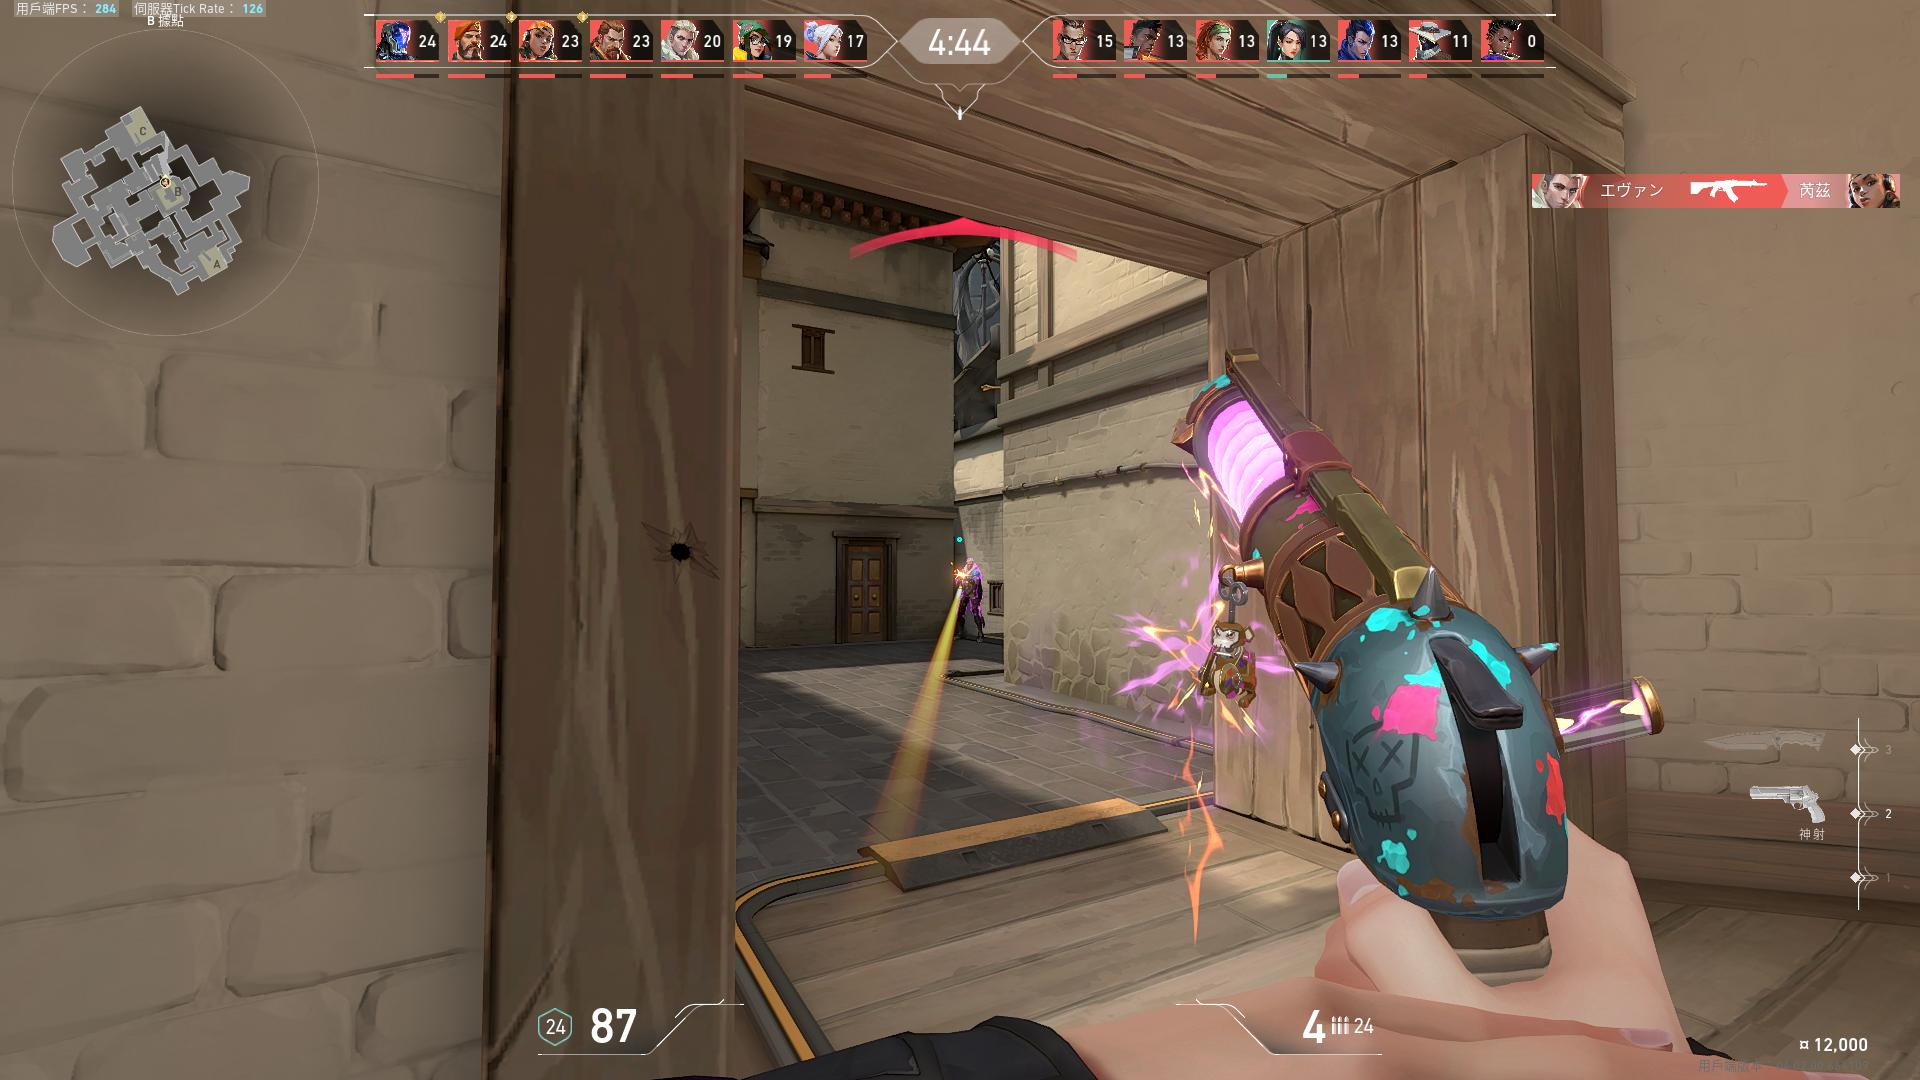enemyBody: (964, 570, 975, 593)
enemyHead: (967, 560, 972, 568)
